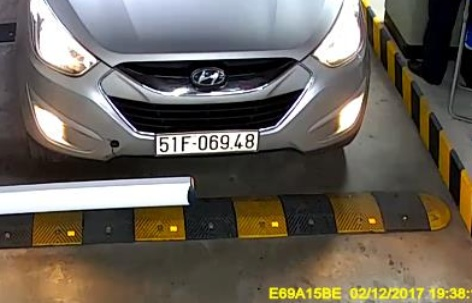plate: (155, 130, 260, 155)
